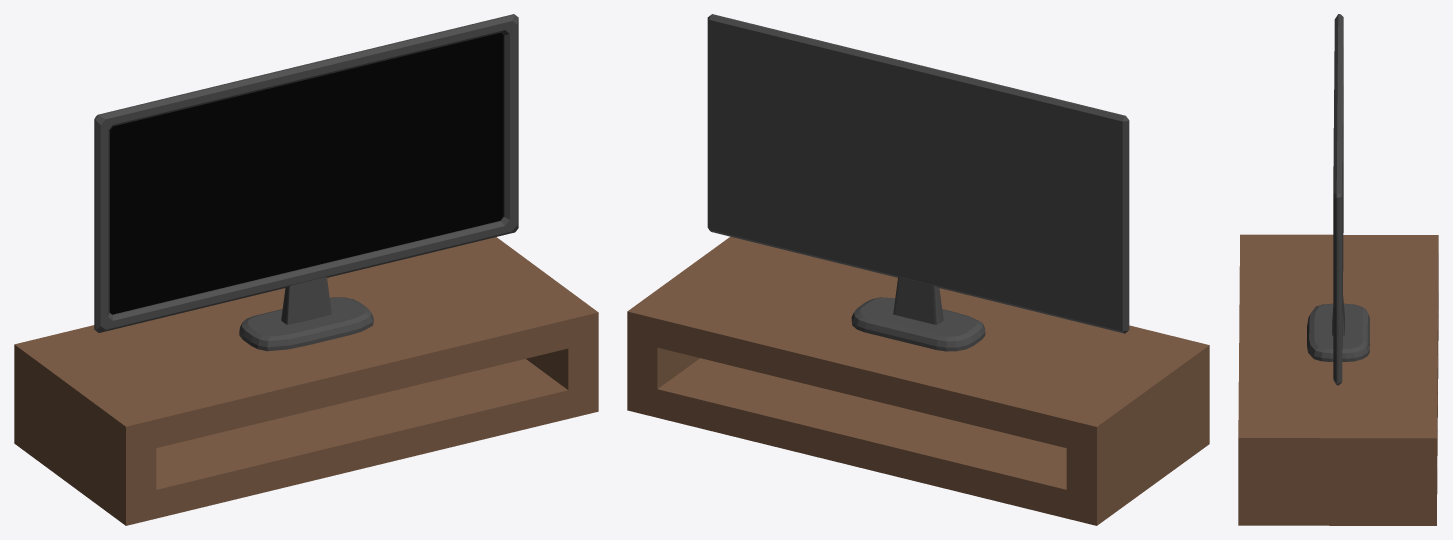
The model's file is Tele.fbx.
3 views of the same model, side by side, from view 1: azimuth 30°, elevation 25°; view 2: azimuth 150°, elevation 25°; view 3: azimuth 270°, elevation 25° (orthographic). The views are drawn at different scales.
Parts seen in each view (by area): view 1: Tele; view 2: Tele; view 3: Tele.
Part boxes in pixels (box(x1,y1,x2,y2)): Tele: box(14, 14, 598, 525); Tele: box(627, 14, 1209, 525); Tele: box(1238, 14, 1438, 525).
Bounding box in the file's own units: 124 × 91.29 × 51.7.
